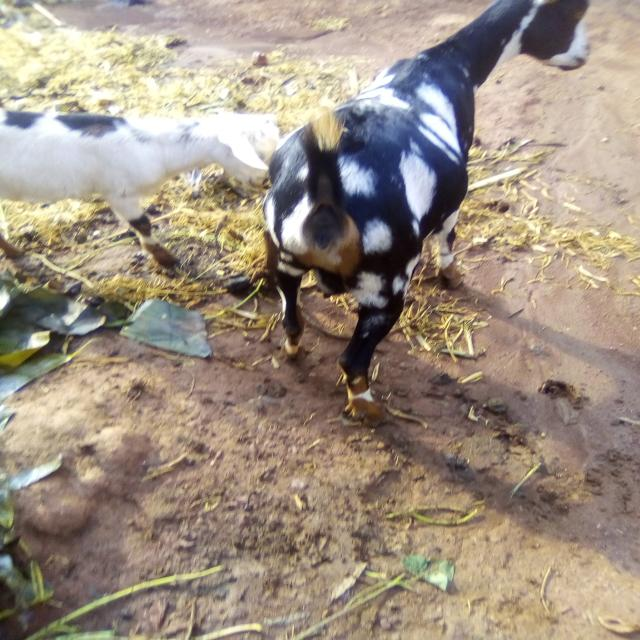goat: (237, 0, 631, 441)
